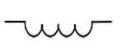inductor: (18, 15, 94, 39)
